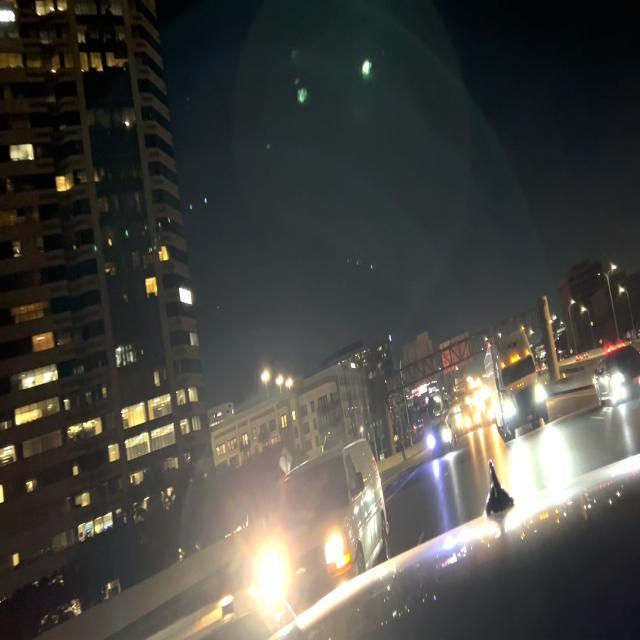back-of-sign: (396, 335, 437, 391), (440, 331, 472, 377), (278, 445, 293, 477)
